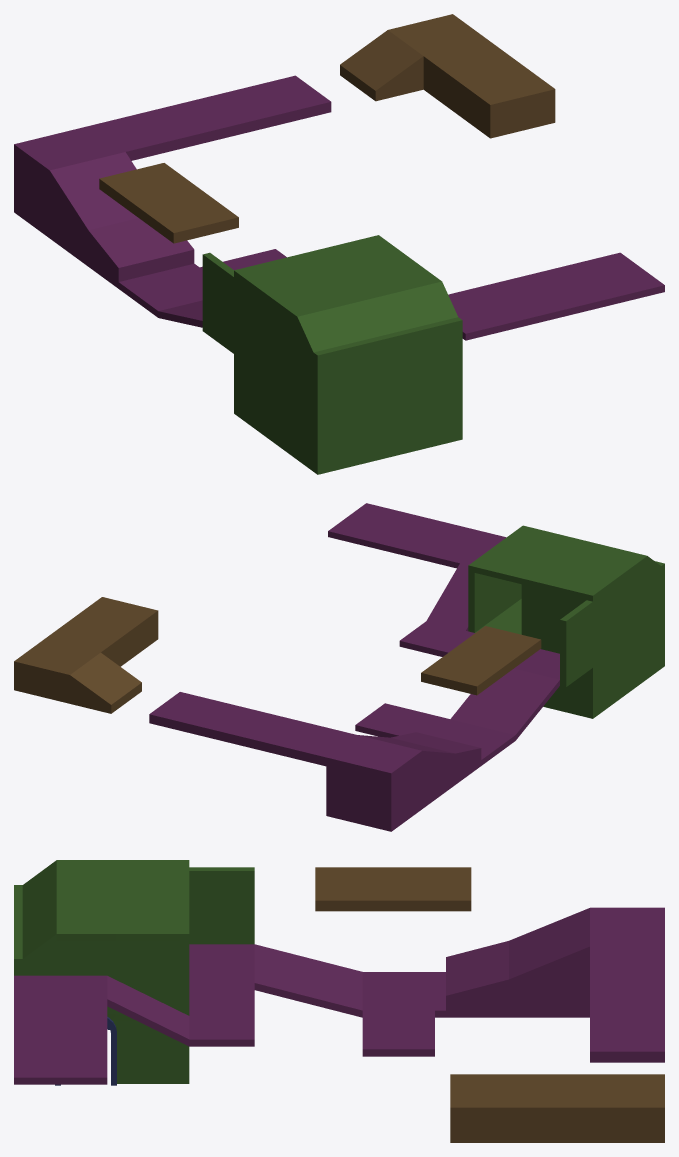
The model's file is SM_MaisonRatv3.fbx.
The picture shows the model from 3 angles, top to bottom: view 1: azimuth 30°, elevation 25°; view 2: azimuth 150°, elevation 25°; view 3: azimuth 270°, elevation 25°; orthographic projection. The views are drawn at different scales.
Parts seen in each view (by area): view 1: pCube244; view 2: pCube244; view 3: pCube244.
Boxes of the visible parts, box(x1,y1,x2,y2) form: pCube244: box(14, 14, 664, 474); pCube244: box(14, 503, 664, 831); pCube244: box(14, 860, 664, 1142).
Bounding box in the file's own units: 109 × 33.37 × 131.
